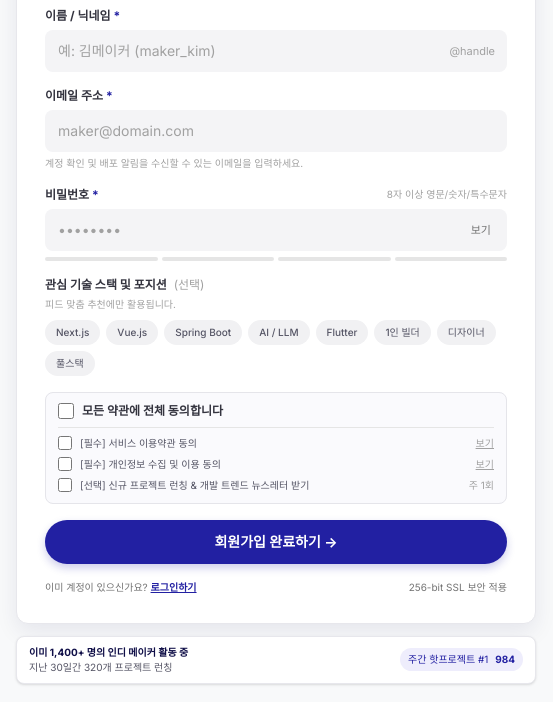
SignupView › reflects individual agreement changes in the all-agreements control
The image size is (553, 702).
(page scrolled)
Click the checkbox with test id "terms-agreement" at {"x": 65, "y": 443}, box [58, 436, 72, 450]
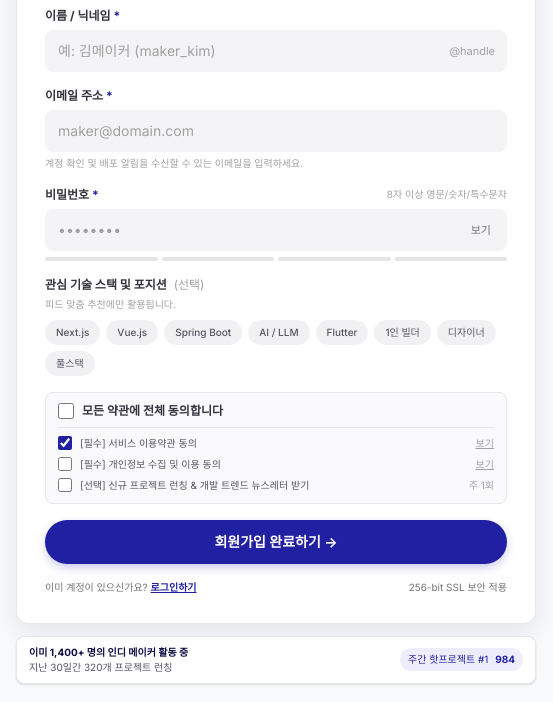
Click the checkbox with test id "privacy-agreement" at {"x": 65, "y": 464}, box [58, 457, 72, 471]
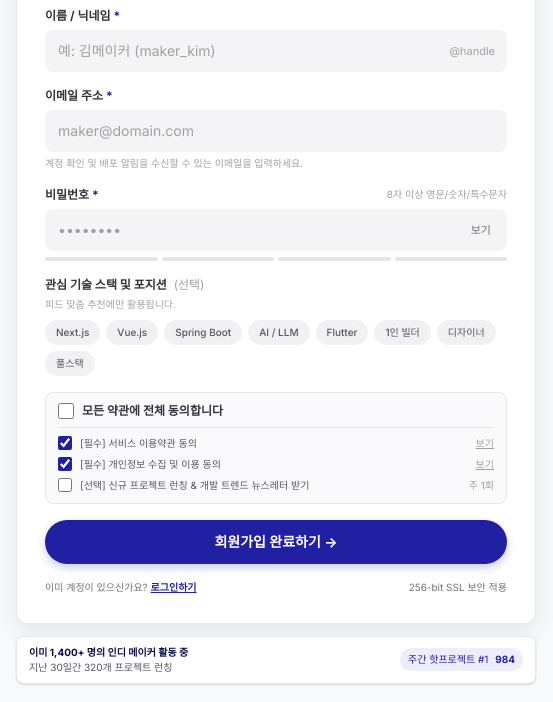
Click the checkbox with test id "newsletter-agreement" at {"x": 65, "y": 485}, box [58, 478, 72, 492]
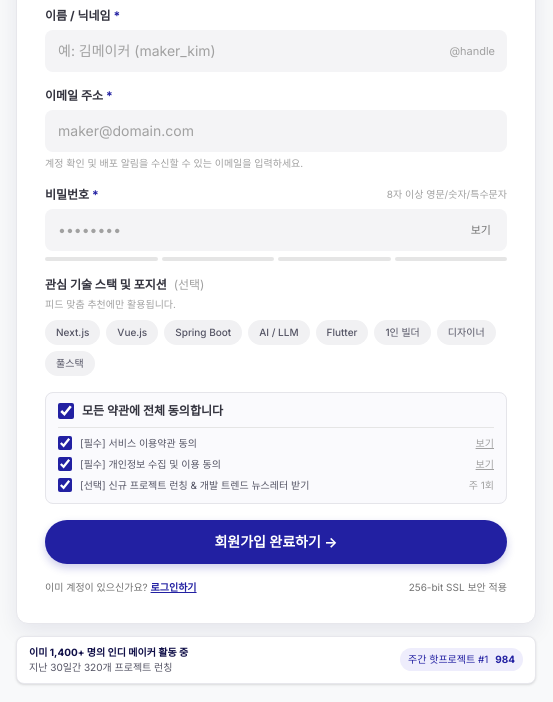
Result: the checkbox with test id "all-agreements" is checked at [58, 403, 74, 419]
